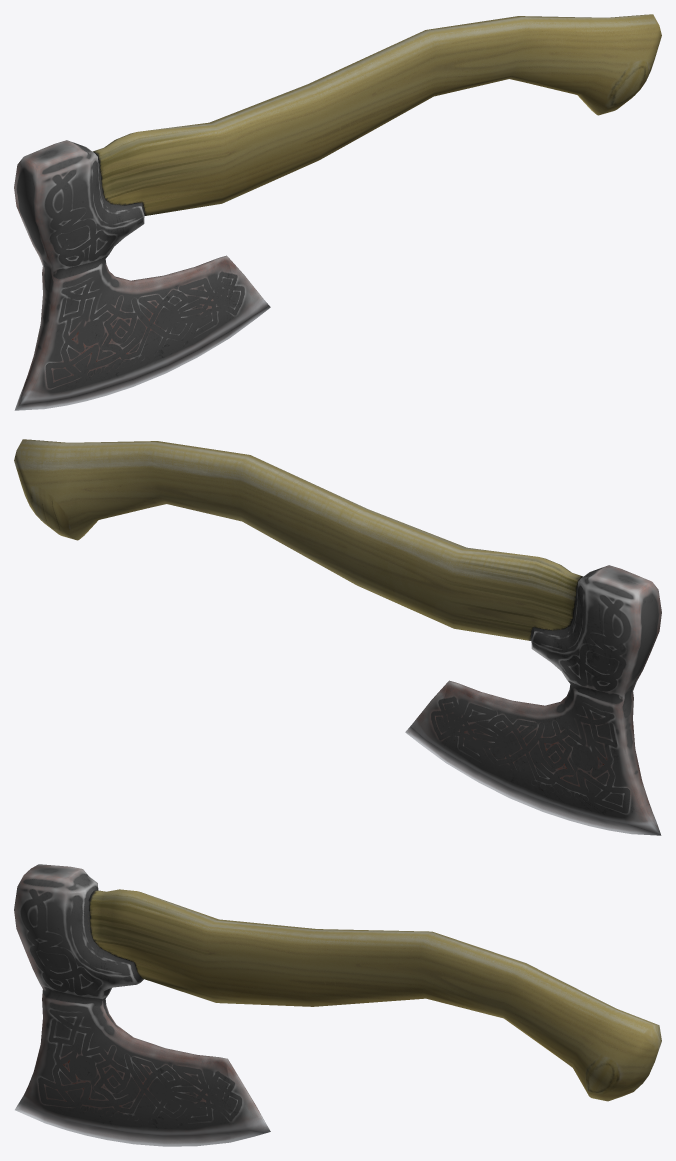
File: Axt.dae
3 views of the same model, one above another, from view 1: azimuth 30°, elevation 25°; view 2: azimuth 150°, elevation 25°; view 3: azimuth 330°, elevation 25° (orthographic).
Visible parts, largest first — view 1: Axt_High; view 2: Axt_High; view 3: Axt_High.
Part boxes in pixels (bbox=[...]): Axt_High: bbox=[14, 14, 661, 410]; Axt_High: bbox=[14, 439, 661, 835]; Axt_High: bbox=[14, 864, 661, 1146].
Bounding box in the file's own units: 0.27 × 0.0242 × 0.1143.
1 material, 1 textured.
